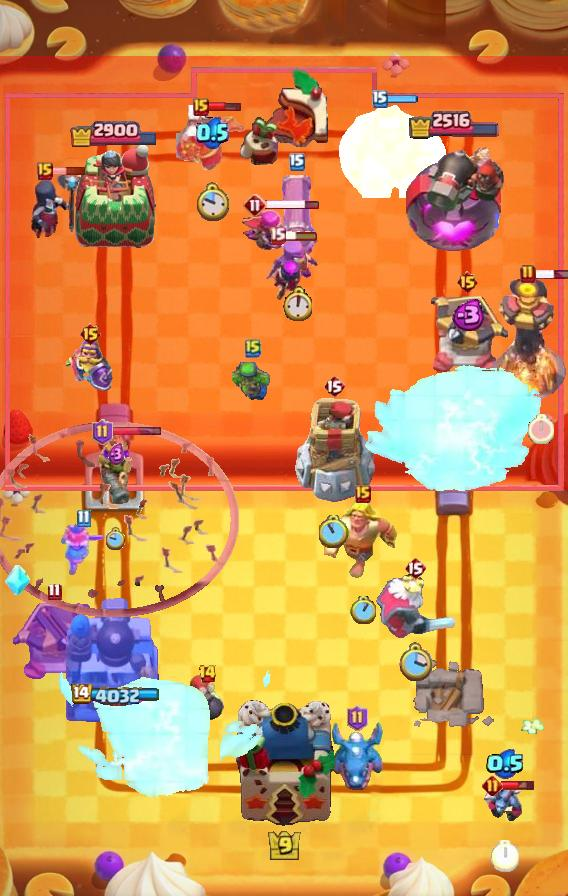battle-healer: (274, 175, 320, 279)
bomb-tower: (95, 428, 137, 508)
electro-dragon: (490, 276, 568, 402)
electro-spirit: (448, 299, 486, 331), (486, 749, 525, 779), (195, 115, 228, 148), (107, 442, 124, 465)
elixir: (195, 181, 229, 222), (398, 641, 432, 682), (282, 287, 312, 322), (319, 516, 349, 548), (491, 840, 519, 872), (528, 414, 554, 444), (350, 596, 376, 624), (106, 526, 126, 549)
elixir-collector: (176, 105, 248, 181)
emote: (265, 198, 320, 211), (110, 427, 162, 438), (283, 230, 319, 242), (206, 101, 241, 113), (501, 779, 536, 791), (532, 269, 568, 280), (50, 166, 85, 176), (385, 94, 419, 104)
evolution-symbol: (239, 204, 305, 256)
firecracker-evolution: (66, 338, 115, 392)
giant-skeleton: (337, 104, 447, 198)
giant-snowball: (232, 362, 274, 402)
goblin-hut: (321, 501, 405, 579)
graveyard: (330, 720, 384, 794)
hog-rider: (59, 523, 107, 577)
ice-golem: (187, 674, 227, 722)
king-tower: (234, 700, 334, 826)
lava-pup: (426, 296, 508, 376), (13, 603, 95, 683)
mega-knight: (58, 656, 275, 802), (362, 362, 546, 498)
mortar-evolution: (374, 570, 456, 640)
pad_2: (4, 565, 30, 597)
queen-tower: (71, 144, 157, 255)
rascal-boy: (29, 169, 89, 243)
rascal-girl: (264, 238, 320, 304)
royal-delivery: (482, 782, 528, 822)
selected: (408, 109, 501, 140), (69, 119, 159, 147), (69, 685, 159, 708)
skeleton-barrel: (1, 420, 240, 618)
text: (243, 193, 267, 217), (457, 270, 480, 294), (79, 322, 102, 346), (91, 419, 112, 445), (348, 705, 369, 731), (323, 374, 345, 398), (404, 556, 426, 580), (481, 775, 502, 797), (198, 664, 217, 684), (520, 264, 536, 284), (245, 338, 261, 358), (270, 227, 287, 245), (372, 90, 388, 108), (193, 98, 209, 116), (289, 153, 305, 171), (37, 162, 53, 180), (355, 485, 371, 503), (46, 582, 61, 601), (76, 509, 91, 527)
tower-bar: (66, 595, 162, 731), (402, 136, 504, 256)
zappy: (293, 398, 375, 504)
